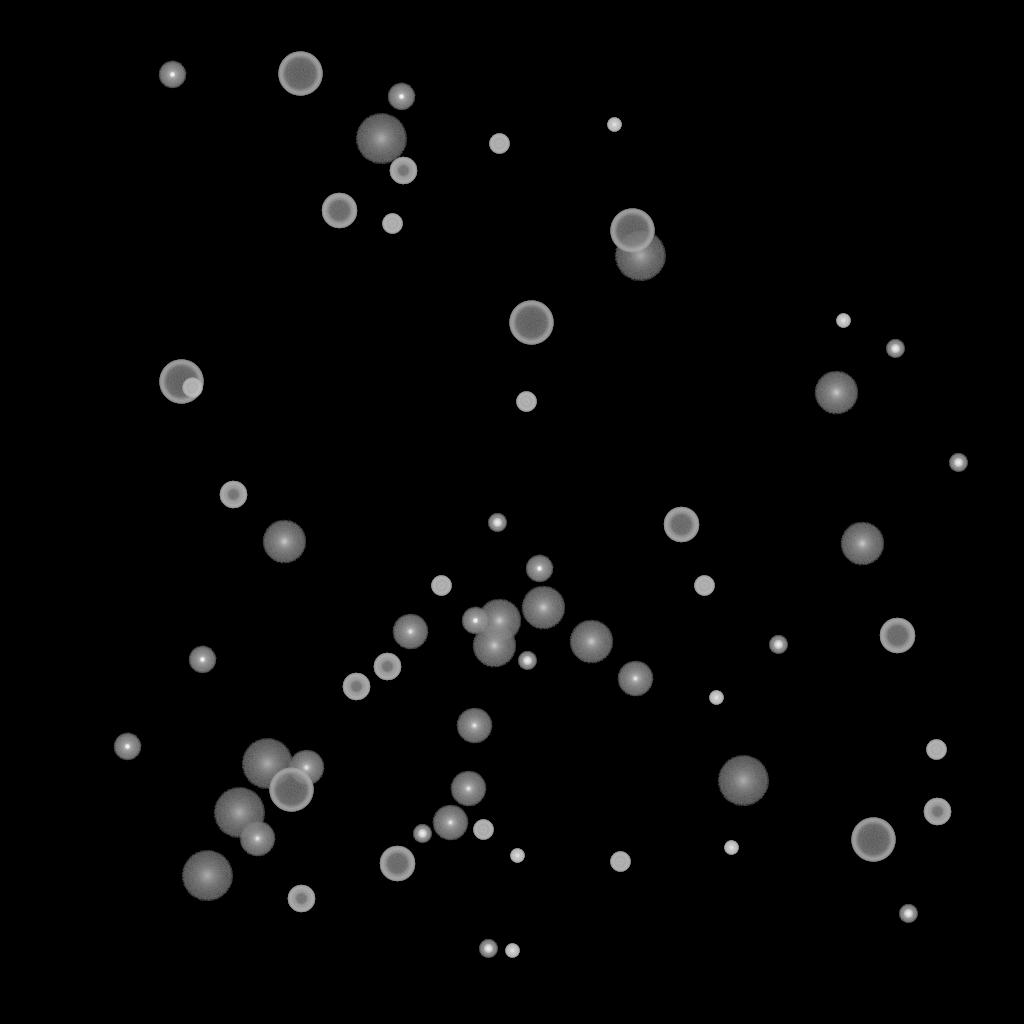depth:-10: (461, 607, 489, 635), (158, 61, 186, 89), (188, 646, 216, 674), (113, 733, 141, 761), (525, 555, 553, 583), (387, 83, 415, 111)
depth:-20: (769, 636, 787, 654), (479, 940, 497, 958), (488, 514, 506, 532), (949, 454, 967, 472), (518, 652, 536, 670), (899, 905, 917, 923), (886, 340, 904, 358), (413, 825, 431, 843)
depth:-30: (505, 944, 519, 958), (607, 118, 621, 132), (709, 691, 723, 705), (510, 849, 524, 863), (724, 841, 738, 855), (836, 314, 850, 328)
depth:-40: (431, 576, 451, 596), (926, 740, 946, 760), (382, 214, 402, 234), (516, 392, 536, 412), (694, 576, 714, 596), (182, 378, 202, 398), (610, 852, 630, 872), (489, 134, 509, 154), (473, 820, 493, 840)
depth:-50: (287, 885, 315, 913), (373, 653, 401, 681), (923, 798, 951, 826), (389, 157, 417, 185), (219, 481, 247, 509), (342, 673, 370, 701)
depth:-60: (663, 507, 699, 543), (879, 618, 915, 654), (379, 846, 415, 882), (321, 193, 357, 229)
depth:-70: (278, 52, 322, 96), (610, 209, 654, 253), (851, 818, 895, 862), (509, 301, 553, 345), (159, 360, 203, 404), (269, 768, 313, 812)
depth:0: (392, 614, 428, 650), (456, 708, 492, 744), (239, 821, 275, 857), (617, 661, 653, 697), (432, 805, 468, 841), (450, 771, 486, 807), (288, 750, 324, 786)
depth:10: (569, 620, 613, 664), (521, 586, 565, 630), (840, 522, 884, 566), (814, 371, 858, 415), (477, 599, 521, 643), (472, 624, 516, 668), (262, 520, 306, 564)
depth:20: (717, 756, 769, 806), (181, 851, 233, 901), (614, 231, 666, 281), (213, 788, 265, 838), (241, 739, 293, 789), (355, 114, 407, 164)
